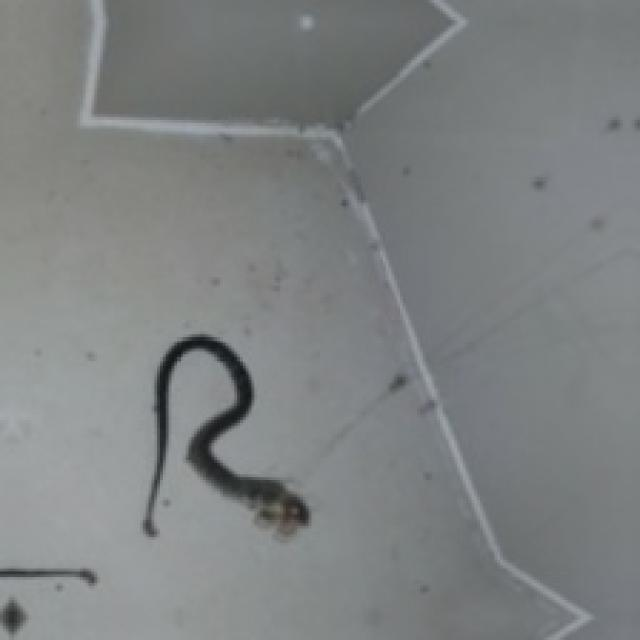gunthers philippine shrub snake: (143, 334, 306, 534)
